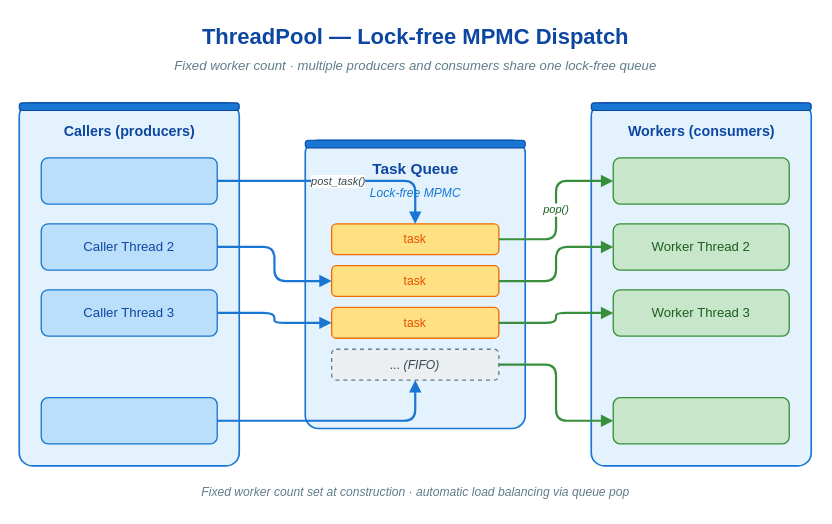
Some shapes in this 832 by 524 pixel diagram are drawn without their labels. Here are the shapes that lost their labels. From the top down, the box of each, then its label:
(40, 157, 217, 204): Caller Thread 1
(612, 157, 789, 204): Worker Thread 1
(40, 396, 217, 444): Caller Thread N
(612, 396, 789, 444): Worker Thread N
